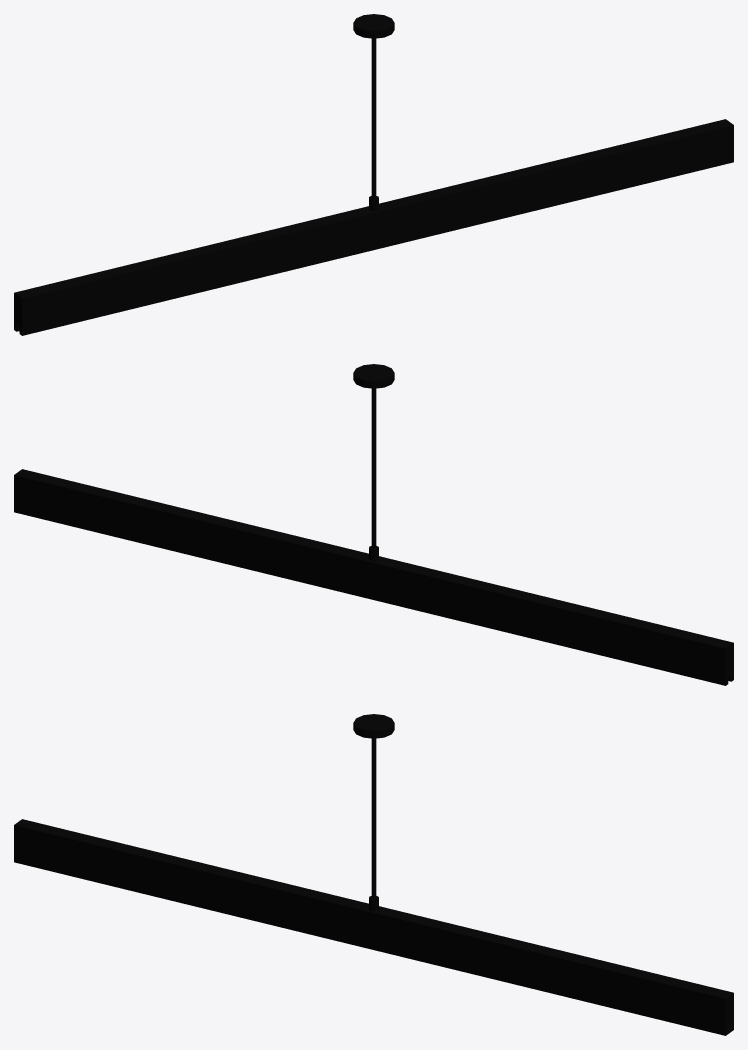
The model's file is SM_Build_Lichtschiene_Gerade_200.fbx.
The picture shows the model from 3 angles, top to bottom: view 1: azimuth 30°, elevation 25°; view 2: azimuth 150°, elevation 25°; view 3: azimuth 330°, elevation 25°; orthographic projection.
Visible parts, largest first — view 1: Lichtschiene_Gerade_200; view 2: Lichtschiene_Gerade_200; view 3: Lichtschiene_Gerade_200.
Part boxes in pixels (bbox=[...]): Lichtschiene_Gerade_200: bbox=[14, 14, 733, 335]; Lichtschiene_Gerade_200: bbox=[14, 364, 733, 685]; Lichtschiene_Gerade_200: bbox=[14, 714, 733, 1035].
Size of the model in its own units: 2 by 0.6 by 0.1.
